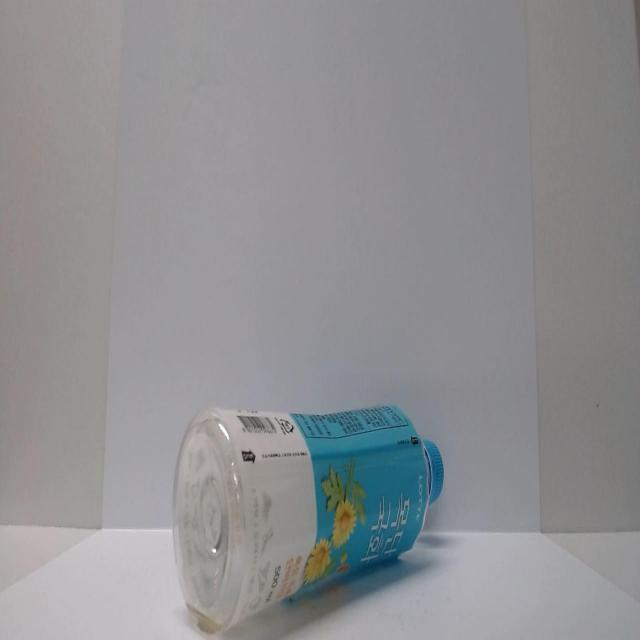bottle: (161, 369, 454, 632)
